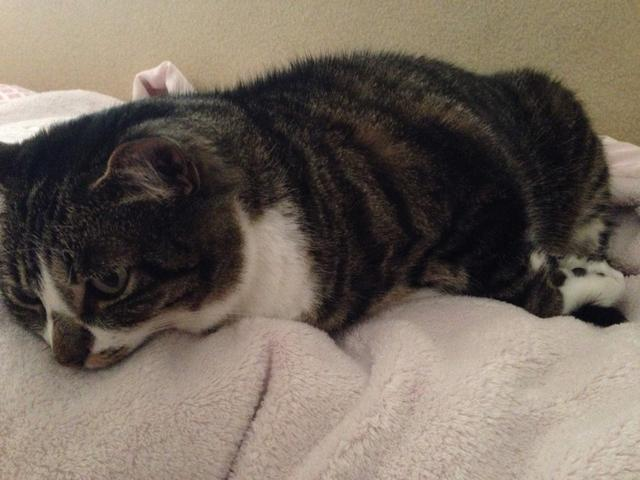playdoh: (1, 53, 626, 375)
